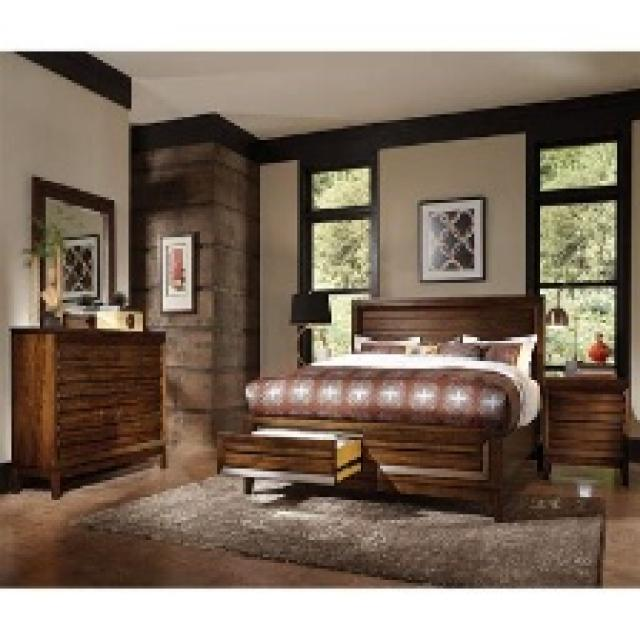Bed: (220, 291, 546, 520)
